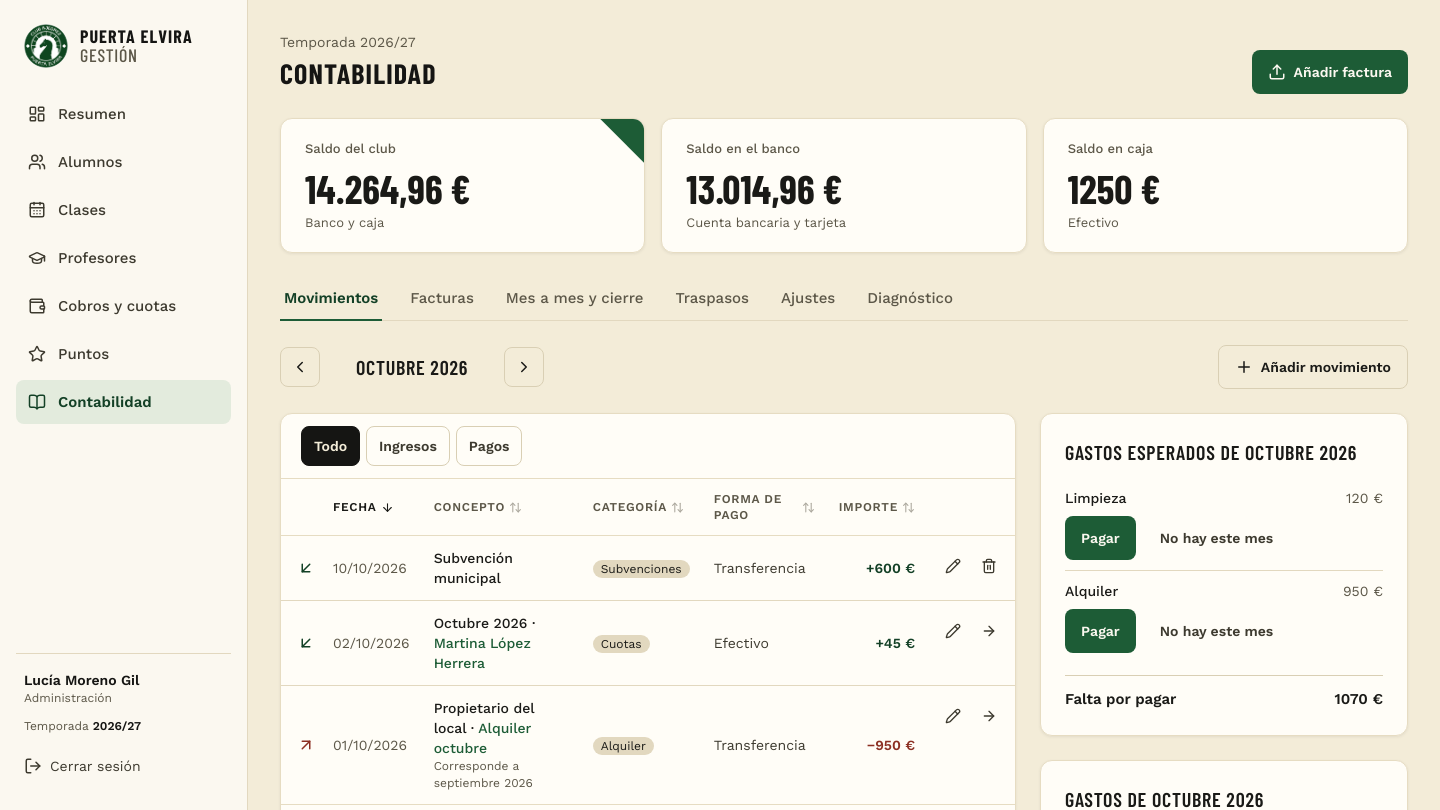
Scenario: Contabilidad › pays an expected expense of the month for what it cost, or skips it
Expected: the text "1070 €" is shown, [1334, 688, 1383, 710]
Click the button with aria-label "Pagar Limpieza": (1100,538) [1065, 516, 1136, 560]
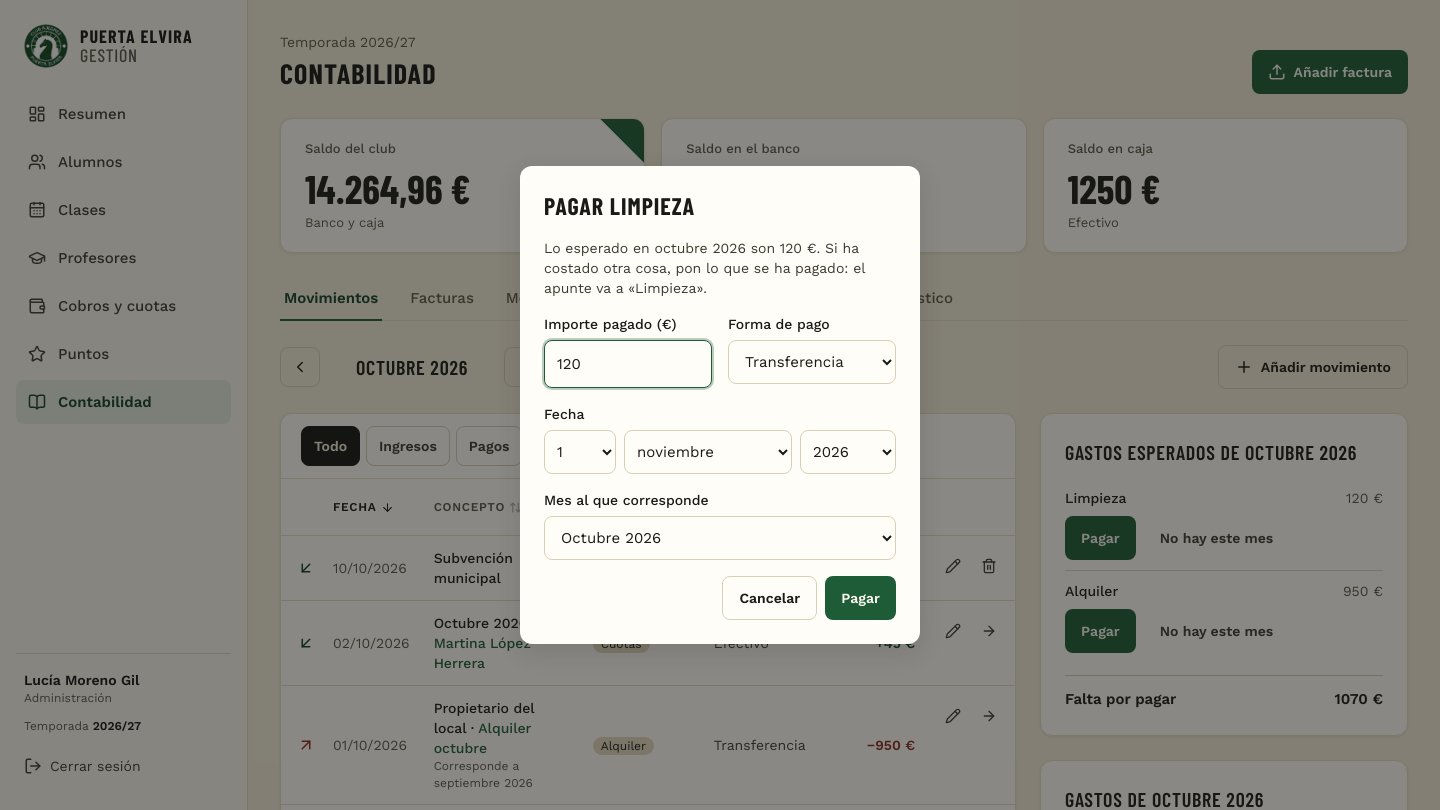
Result: the field labelled "Importe pagado (€)" holds "120"
Replace the text in the field labelled "Importe pagado (€)" with "135,50": (628,364) [544, 340, 712, 388]
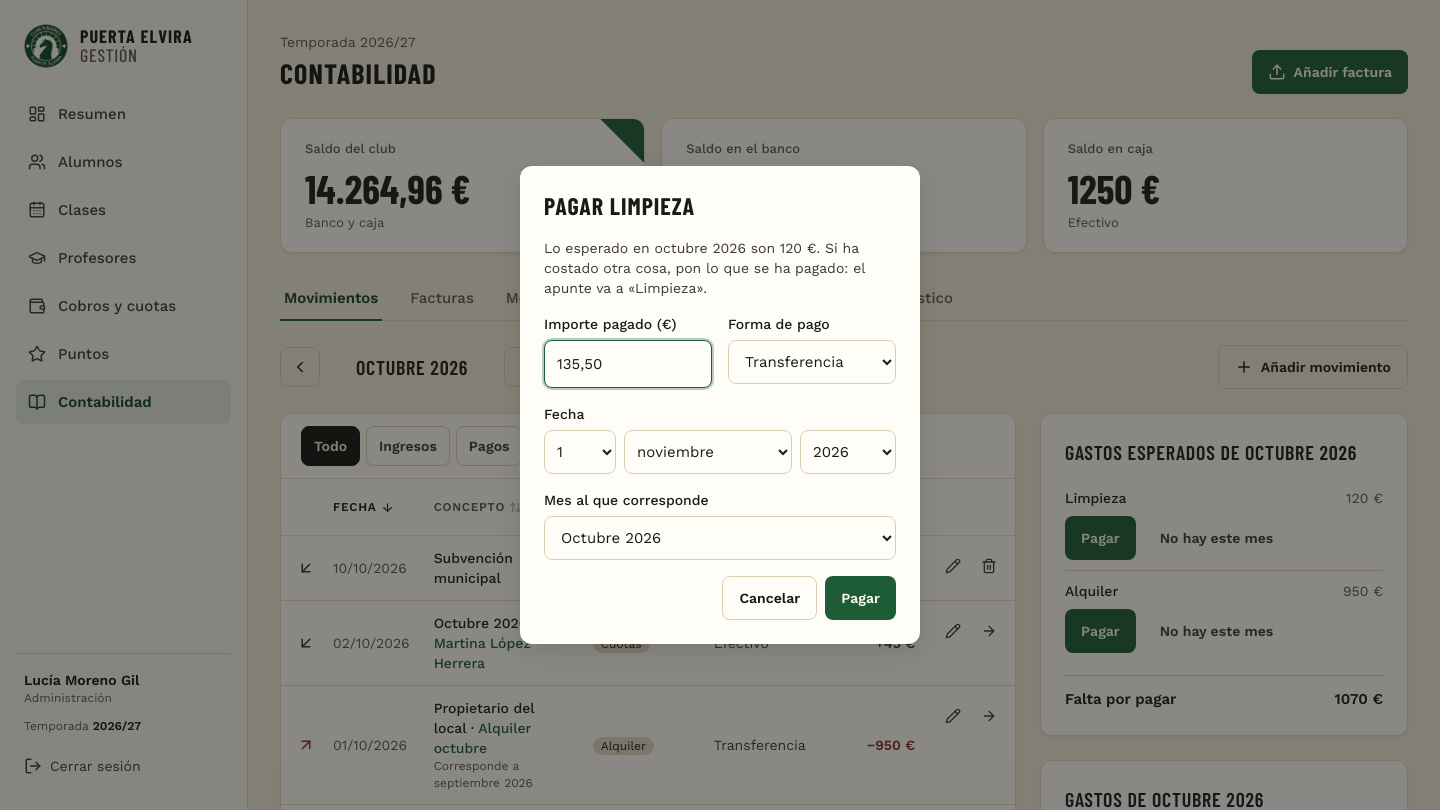
Click the button "Pagar": (861,598) [825, 576, 896, 620]
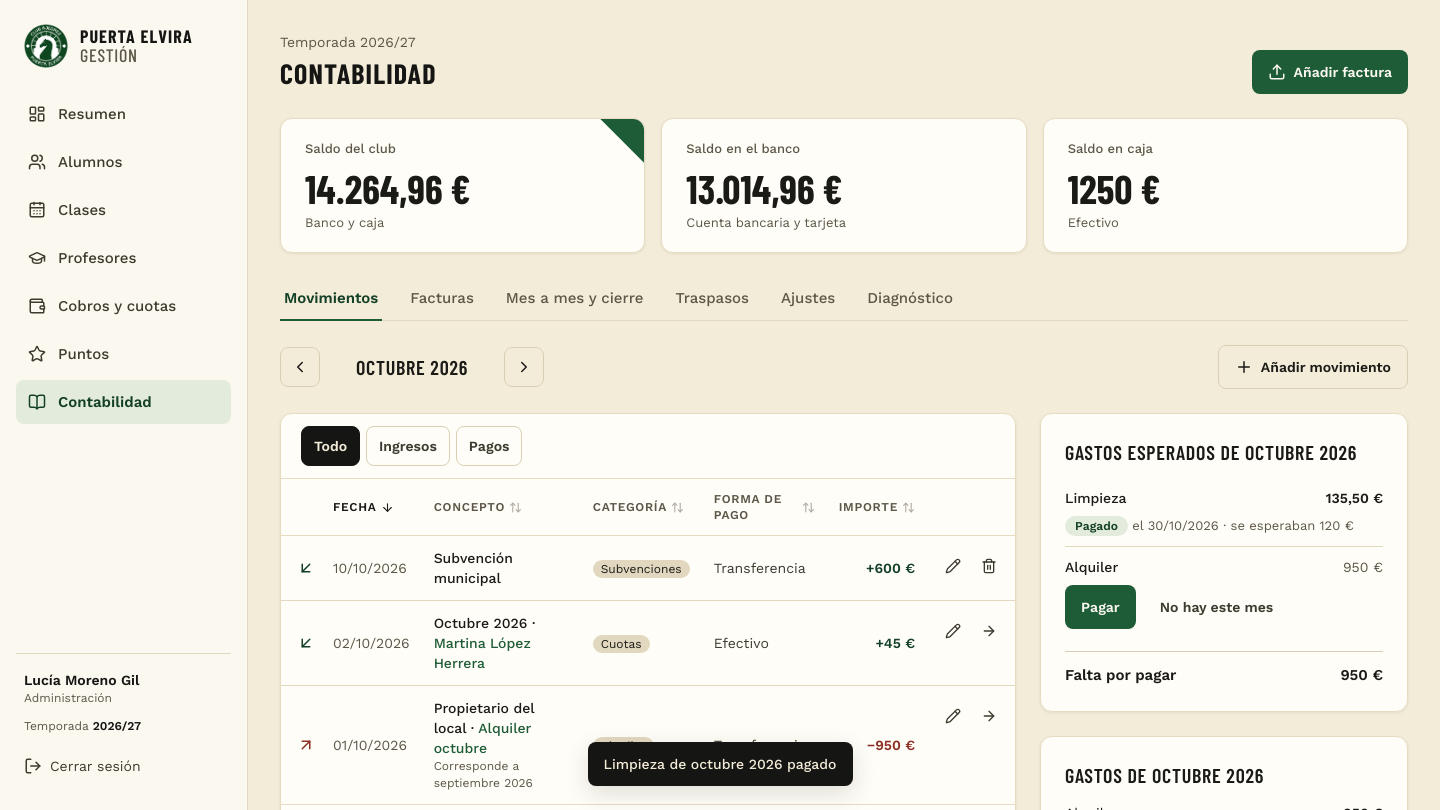
Result: the text "Limpieza de octubre 2026 pagado" is shown at [588, 742, 852, 786]
Click the button with aria-label "No hay Alquiler este mes": (1217,607) [1144, 585, 1289, 629]
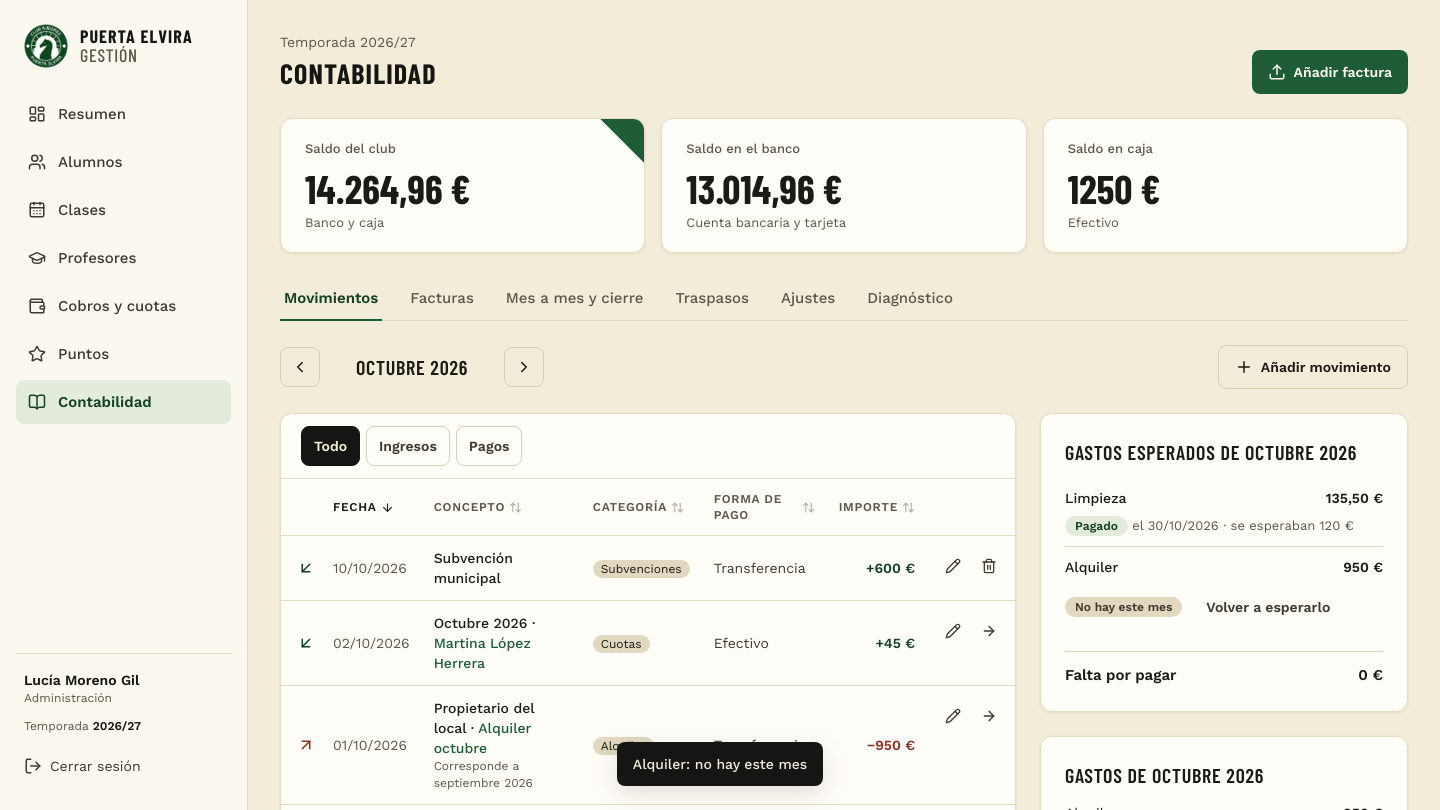
Result: the text "Pagado el 30/10/2026 · se esperaban 120 €" is shown at [1065, 516, 1383, 536]
Result: the button with aria-label "Volver a esperar Alquiler" is shown at [1190, 585, 1346, 629]
